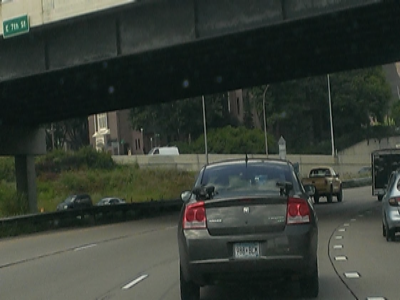licence: (230, 239, 262, 260)
